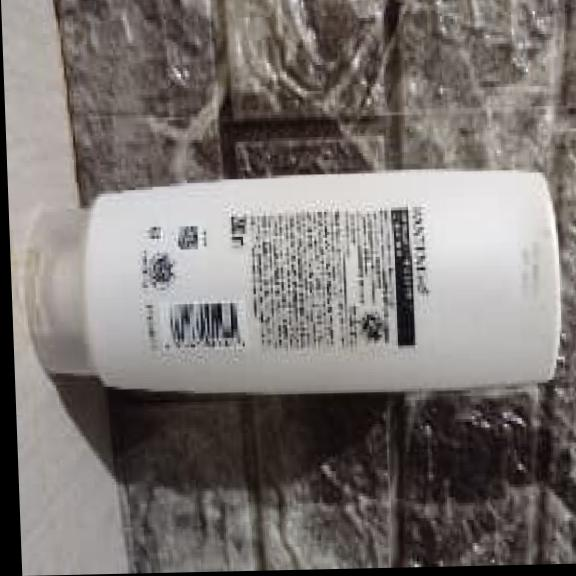Plastik: (26, 161, 567, 411)
